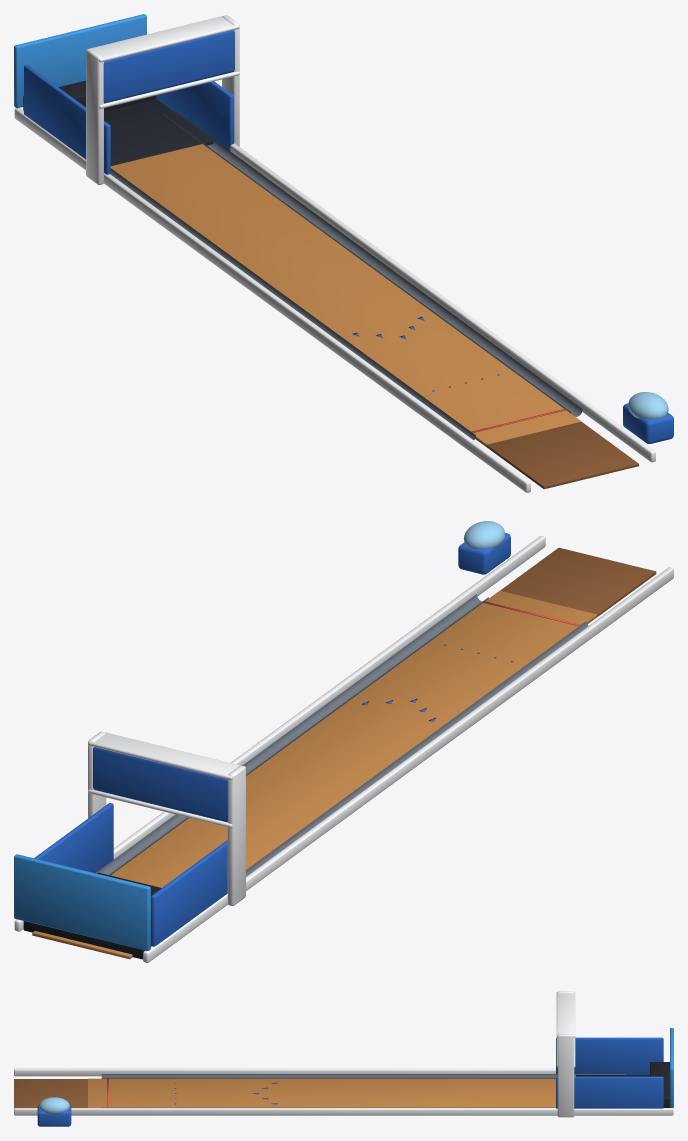
Rendered from bowling_lane.glb.
The picture shows the model from 3 angles, top to bottom: view 1: azimuth 30°, elevation 25°; view 2: azimuth 150°, elevation 25°; view 3: azimuth 270°, elevation 25°; orthographic projection. The views are drawn at different scales.
Parts seen in each view (by area): view 1: bowling_lane; view 2: bowling_lane; view 3: bowling_lane.
Boxes of the visible parts, x1,y1,x2,y2 form: bowling_lane: (14, 14, 673, 492); bowling_lane: (14, 521, 673, 962); bowling_lane: (14, 991, 673, 1126).
Bounding box in the file's own units: 3.88 × 2.74 × 19.61.
